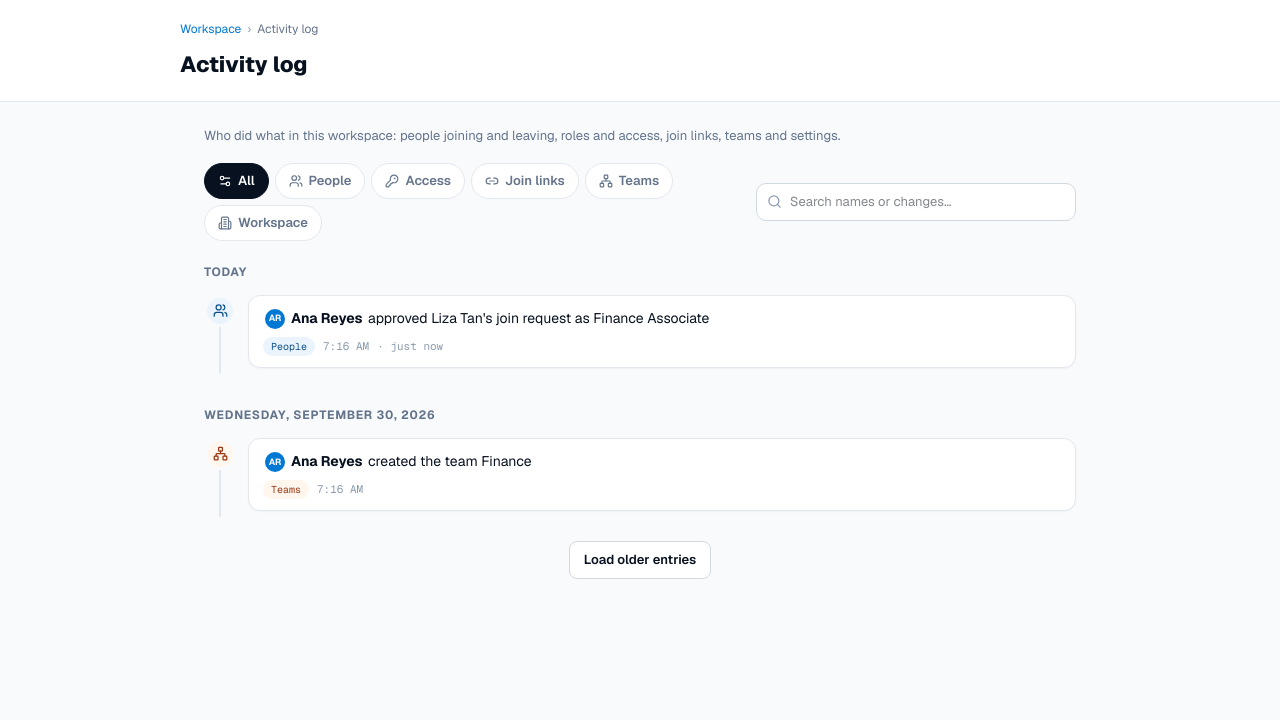
Test: Activity log — real backend › groups by day, filters by category and loads more with the cursor
Check: the list item with test id "activity-e1" shows "Ana Reyes approved Liza Tan's join request as Finance Associate", box [204,295,1076,380]
Check: the heading "Today" is shown, box [204,259,1076,285]
Click the button "Load older entries": (640, 560) [569,541,711,579]
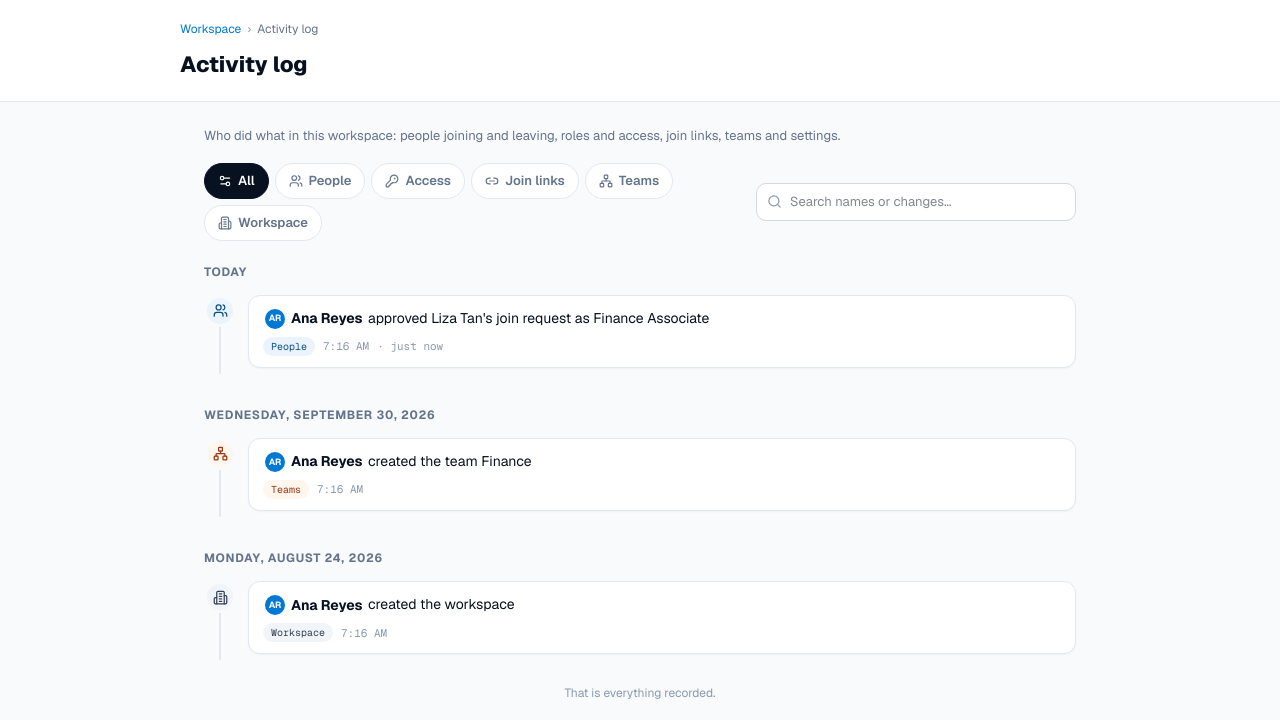
Check: the list item with test id "activity-e3" shows "created the workspace", box [364,595,514,613]
Check: the button "Load older entries" is gone
Click the button "Join links": (525, 181) [471,163,579,199]
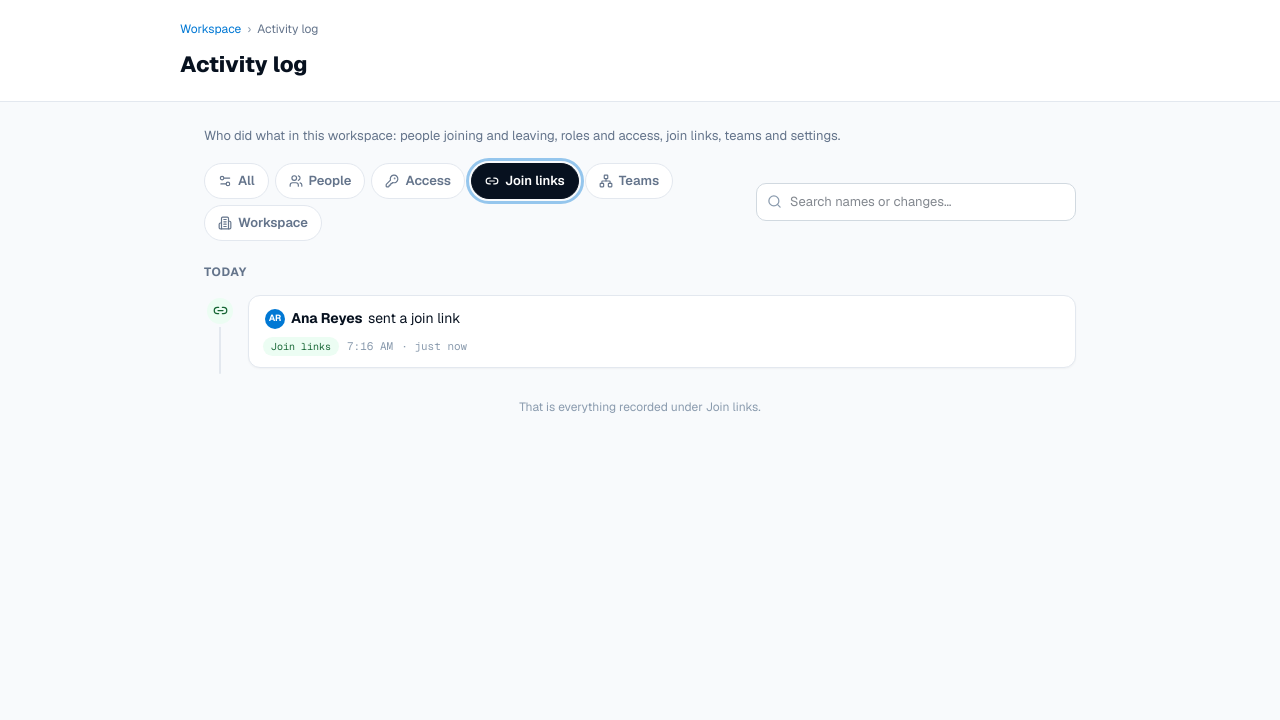
Check: the list item with test id "activity-e9" is shown, box [204,295,1076,380]
Check: the list item with test id "activity-e1" is gone
